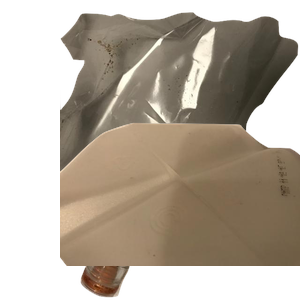glass: (78, 128, 298, 300)
metal: (60, 47, 300, 227)
plastic: (60, 120, 300, 300)
trash: (60, 10, 300, 190)
